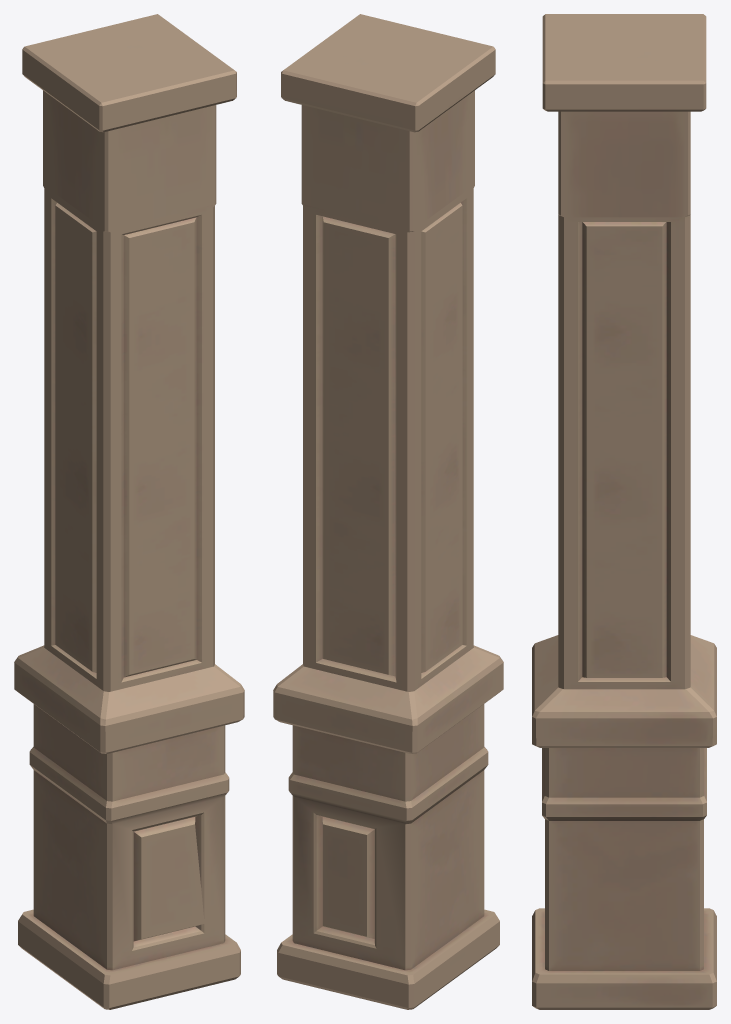
File: ColumnFull.fbx
The picture shows the model from 3 angles, left to right: view 1: azimuth 30°, elevation 25°; view 2: azimuth 150°, elevation 25°; view 3: azimuth 270°, elevation 25°; orthographic projection. The views are drawn at different scales.
Parts seen in each view (by area): view 1: column2Middle1, ColumnFull (12), column2Top; view 2: column2Middle1, ColumnFull (12), column2Top; view 3: column2Middle1, ColumnFull (12), column2Top.
Part boxes in pixels (x1,y1,x2,y2): column2Middle1: [44, 186, 214, 691]; ColumnFull (12): [14, 645, 244, 1009]; column2Top: [22, 14, 236, 232]; column2Middle1: [303, 186, 473, 691]; ColumnFull (12): [273, 645, 503, 1009]; column2Top: [281, 14, 495, 232]; column2Middle1: [558, 215, 690, 689]; ColumnFull (12): [532, 635, 716, 1009]; column2Top: [542, 14, 706, 217].
Size of the model in its own units: 2.96 by 17.7 by 3.19.
